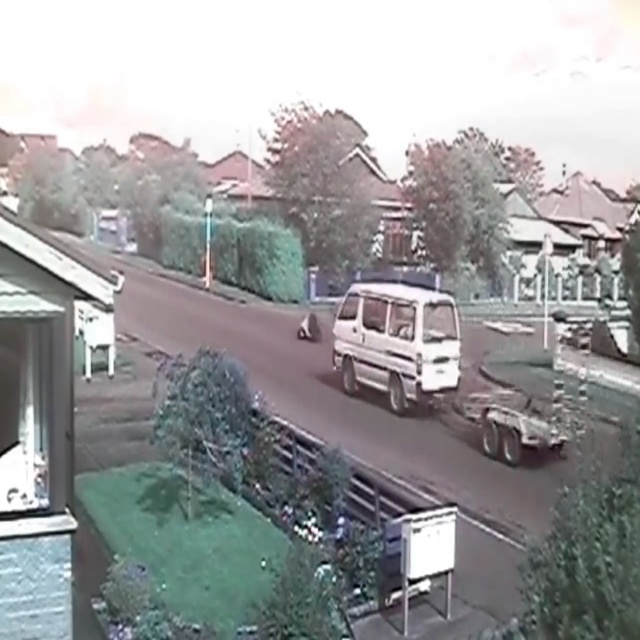acc: (278, 294, 332, 354)
